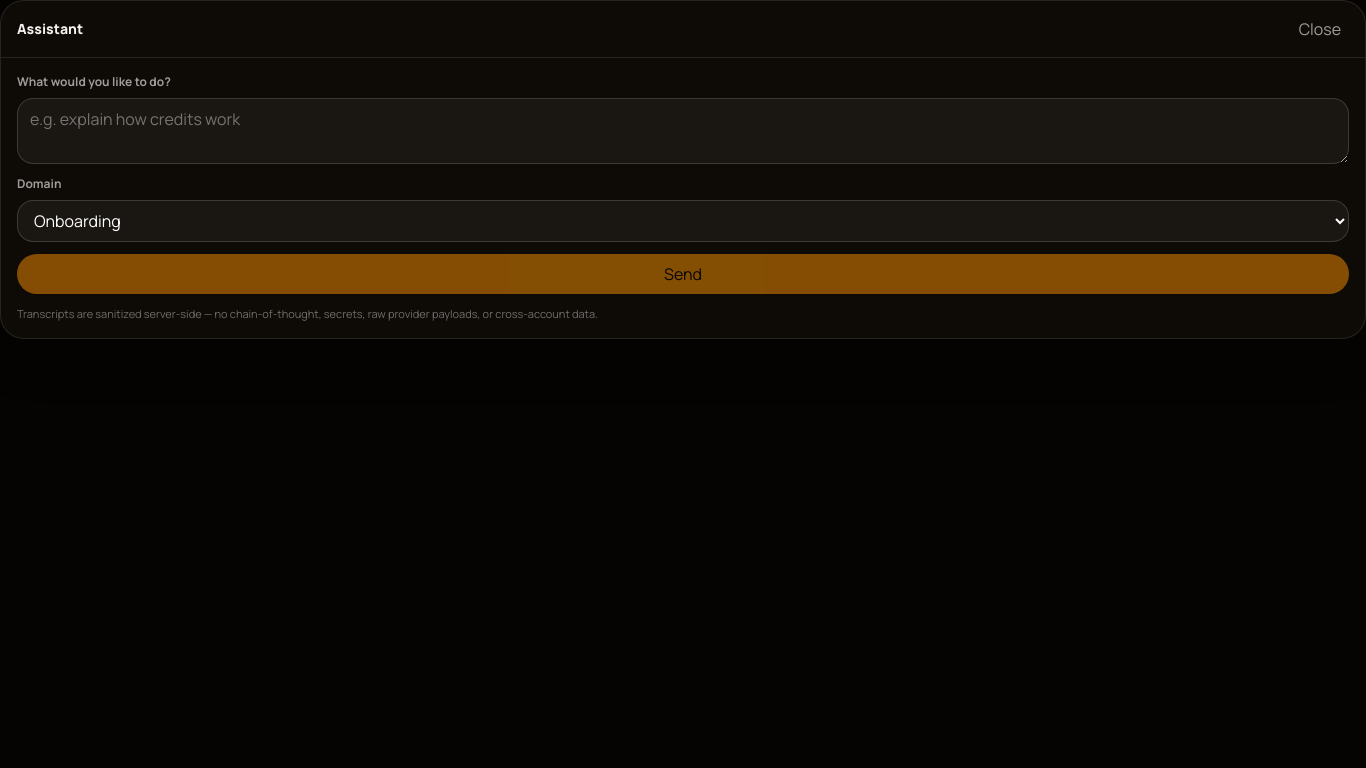
it: AssistantPanel › offers an exact-preview confirmation step for a protected Execute
The width and height of the screenshot is (1366, 768).
Type "publish the first post" into the text box labelled "What would you like to do?".
click(683, 131); type("publish the first post")  # box x1=17 y1=98 x2=1349 y2=164
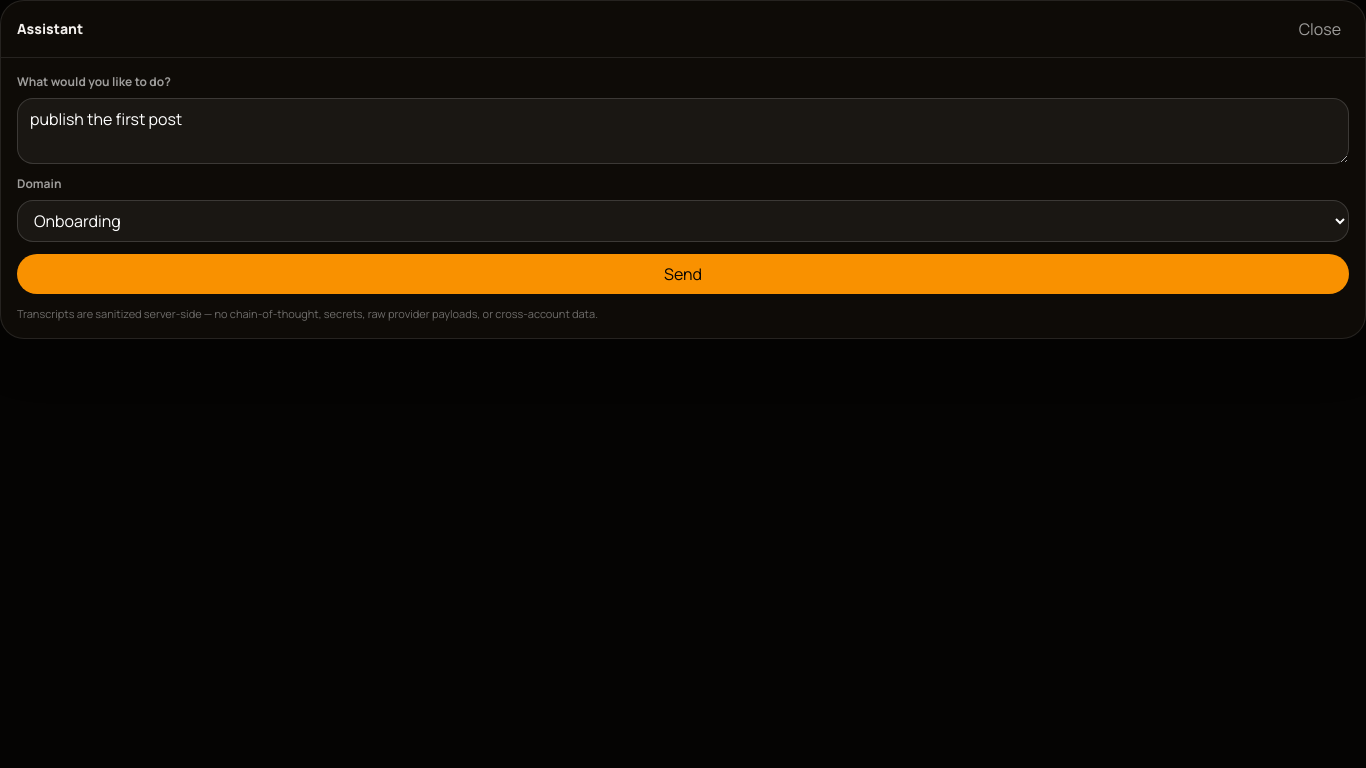
Click the button "Send".
click(683, 274)  # box x1=17 y1=254 x2=1349 y2=294
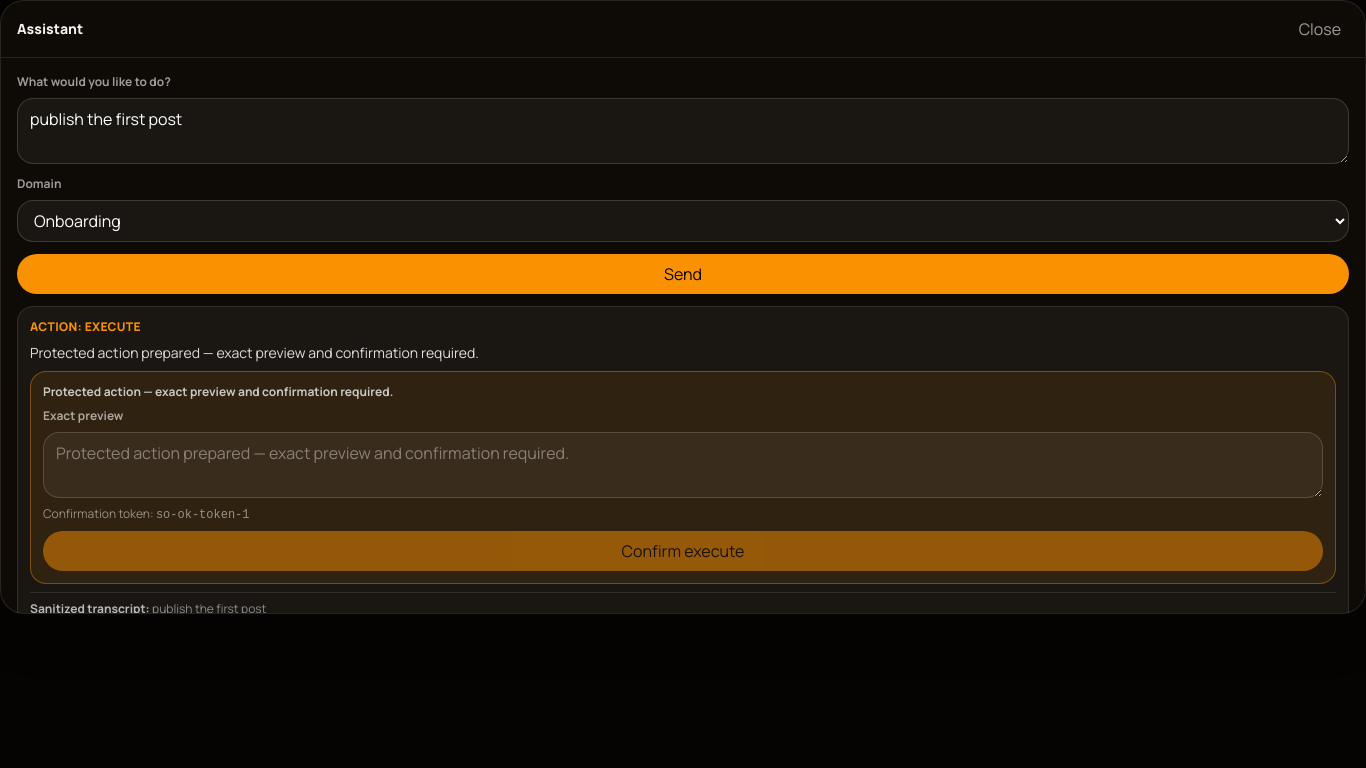
Expected: the button "Confirm execute" is shown, x1=43 y1=531 x2=1323 y2=571
Replace the text in the text box labelled "Exact preview" with "Publish caption X" at {"x": 683, "y": 465}, box x1=43 y1=432 x2=1323 y2=498
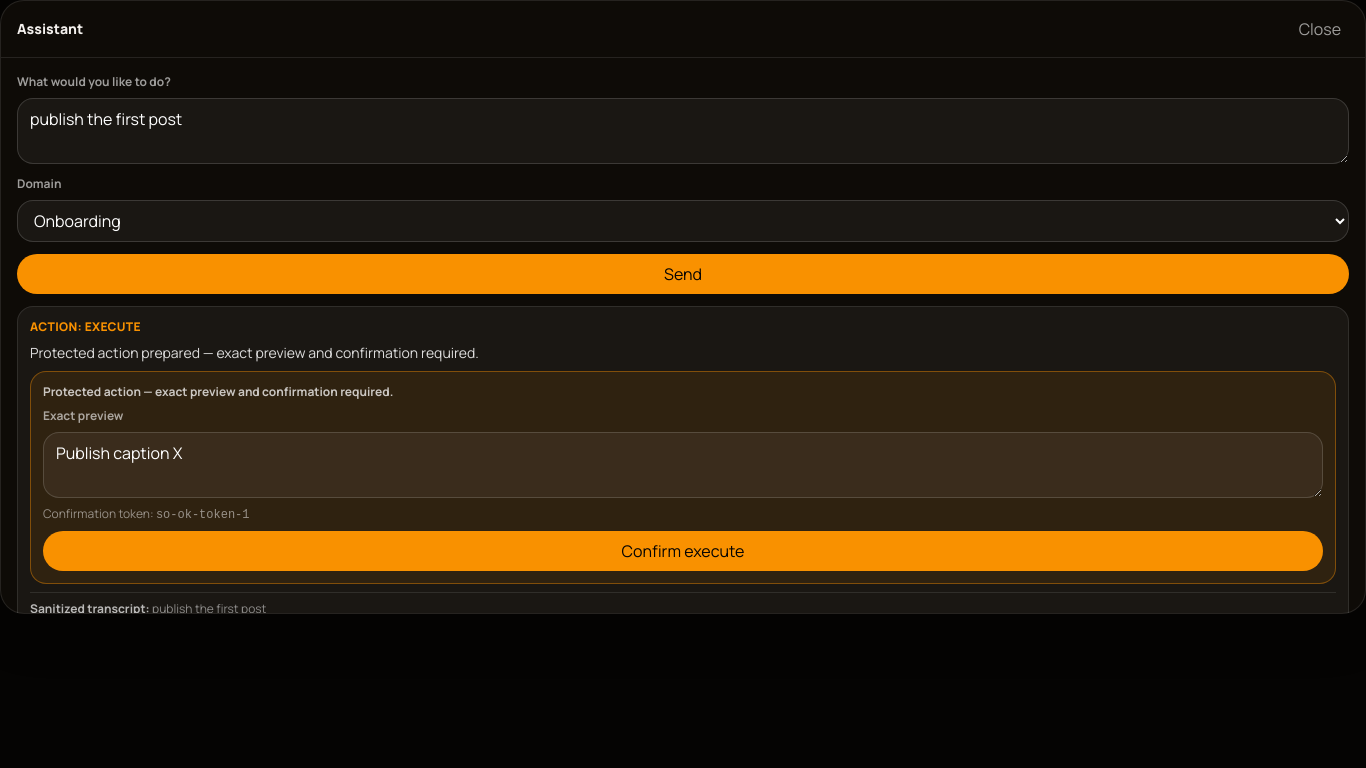
Click the button "Confirm execute".
click(683, 551)  # box x1=43 y1=531 x2=1323 y2=571
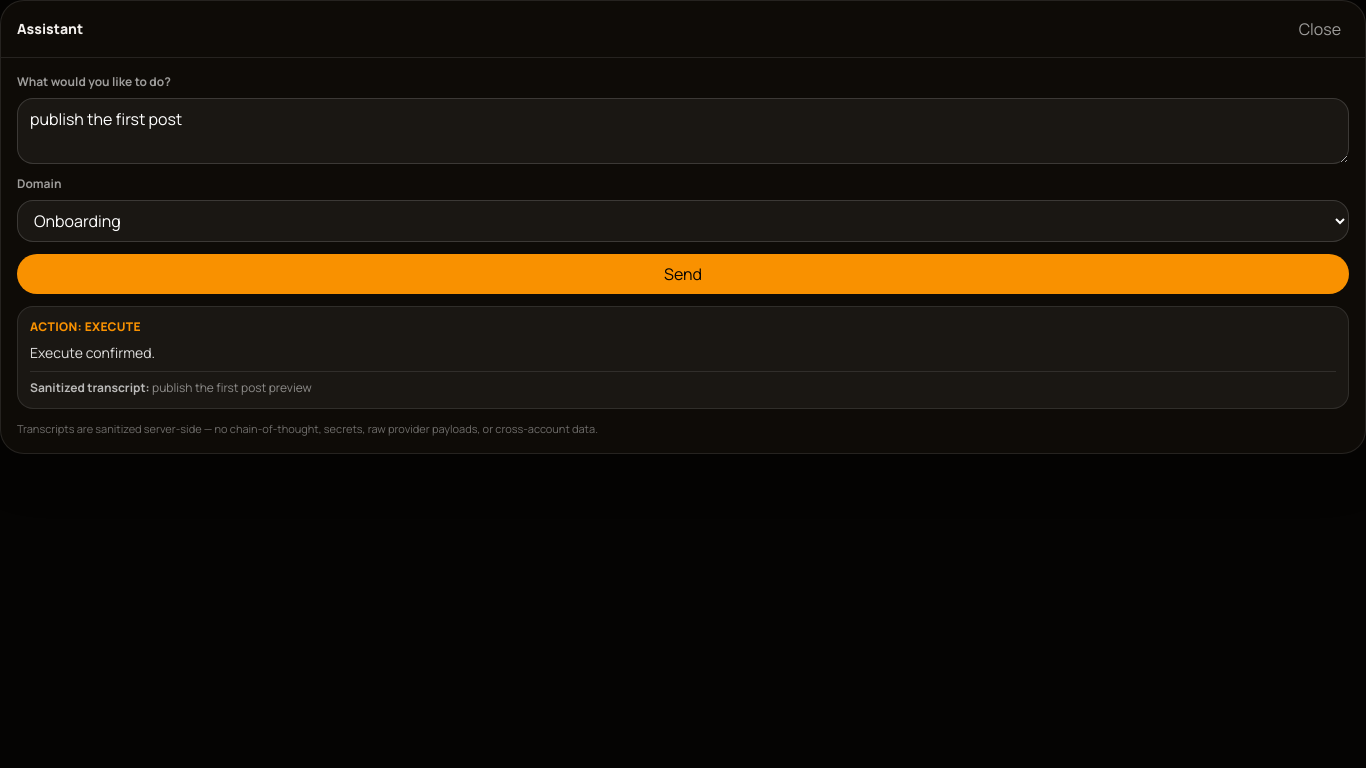
Expected: the text "Execute confirmed." is shown, x1=30 y1=343 x2=155 y2=362
